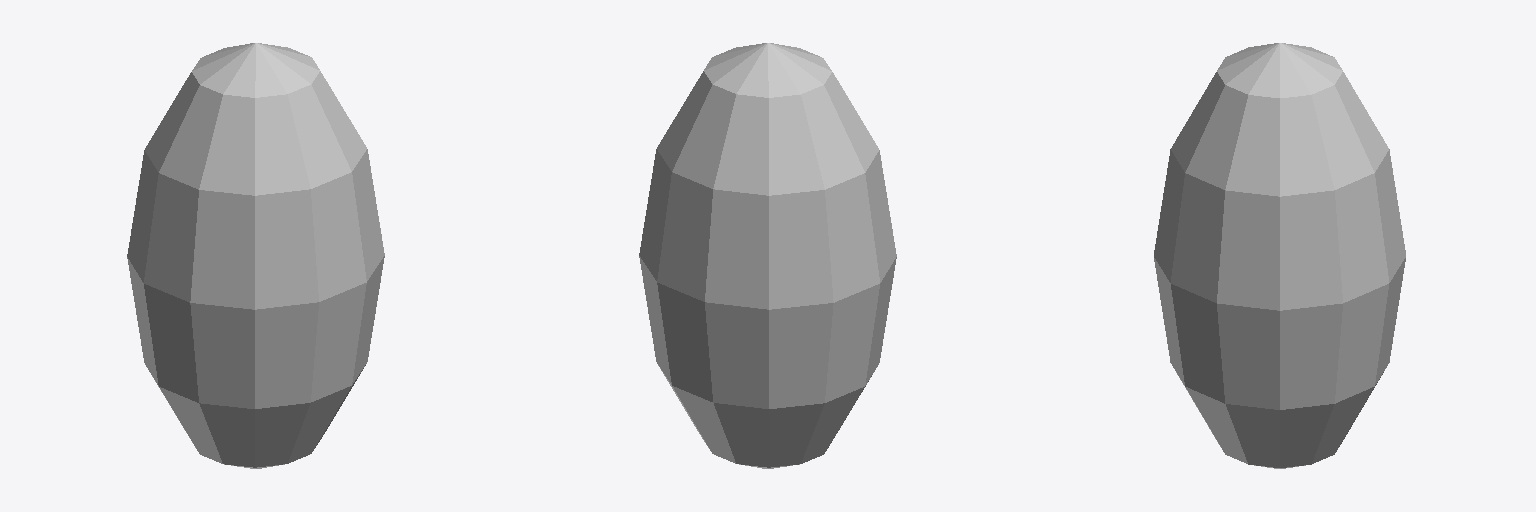
File: EatenTop.obj
The picture shows the model from 3 angles: view 1: azimuth 30°, elevation 25°; view 2: azimuth 150°, elevation 25°; view 3: azimuth 270°, elevation 25°; orthographic projection.
Parts seen in each view (by area): view 1: pSphere6; view 2: pSphere6; view 3: pSphere6.
Boxes of the visible parts, <box> form: pSphere6: <box>127,43,384,468</box>; pSphere6: <box>639,43,896,468</box>; pSphere6: <box>1154,43,1405,468</box>.
Size of the model in its own units: 6.15 by 11.17 by 5.99.